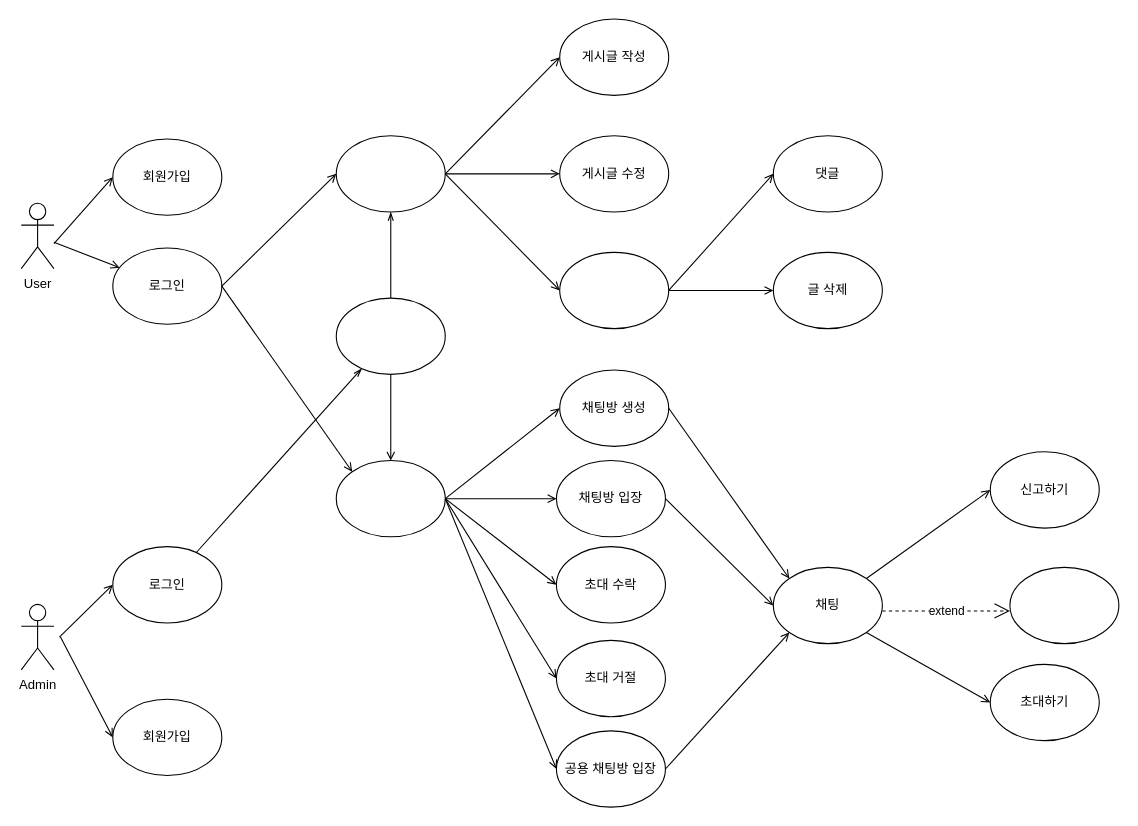
Some shapes in this 1138 by 826 pixel diagram are drawn without their labels. The centre of each missing label's shape, as x and y in pixels:
Q&A 게시판: point (390, 173)
Q&A 채널: point (390, 498)
게시글 읽기: point (614, 290)
관리: point (390, 335)
화상통화: point (1064, 605)
